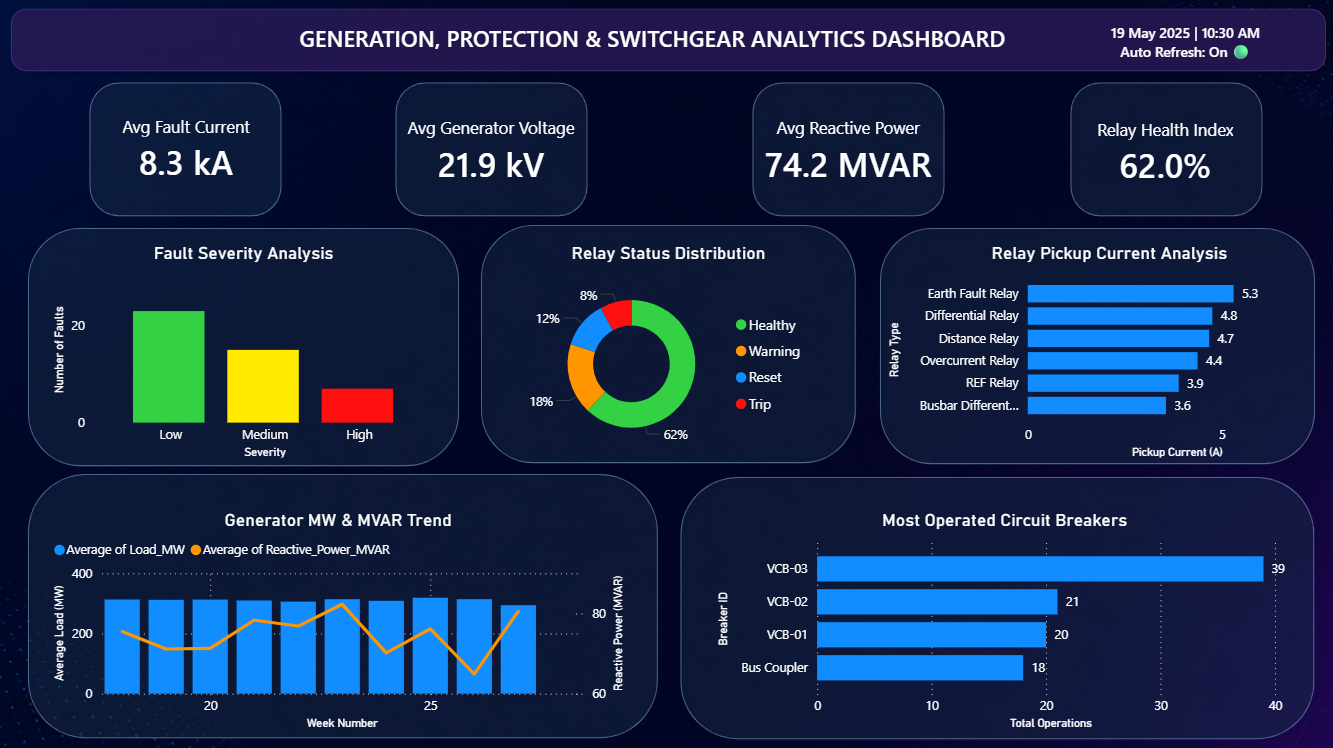

Layout of this report page (visuals, bound fields, positions):
{"tool":"powerbi","page":{"name":"Switchgear & Protection Analytics","canvas":[1280,720],"ordinal":1},"visuals":[{"type":"shape","box":[75.1,69.3,206.1,150.2],"z":0},{"type":"shape","box":[367.8,69.3,206.1,150.2],"z":1000},{"type":"shape","box":[710.6,69.3,206.1,150.2],"z":2000},{"type":"shape","box":[1.8,0,1278.8,78.2],"z":3000},{"type":"textbox","box":[104,17.3,1043.8,38.5],"z":4000},{"type":"textbox","box":[1030.3,17.3,213.8,52],"z":5000},{"type":"shape","box":[1014.9,69.3,206.1,150.2],"z":6000},{"type":"cardVisual","fields":{"Data":["Equipment_Master.Avg Fault Current"]},"box":[82.8,82.8,190.7,121.3],"z":7000},{"type":"cardVisual","fields":{"Data":["Equipment_Master.Relay Health Index"]},"box":[1003.3,86.7,227.2,121.3],"z":8000},{"type":"cardVisual","fields":{"Data":["Equipment_Master.Avg Generator Voltage"]},"box":[354.3,84.7,234.9,121.3],"z":9000},{"type":"cardVisual","fields":{"Data":["Equipment_Master.Avg Reactive Power"]},"box":[693.3,84.7,240.7,121.3],"z":10000},{"type":"shape","box":[450.6,206.1,381.3,250.4],"z":11000},{"type":"shape","box":[831.9,208,439.1,248.4],"z":12000},{"type":"shape","box":[15.4,208,435.2,250.4],"z":13000},{"type":"shape","box":[15.4,444.9,625.9,275.4],"z":14000},{"type":"shape","box":[641.3,446.8,629.7,273.5],"z":14500},{"type":"donutChart","title":"Relay Status Distribution","fields":{"Category":["Relay_Protection_Log.Operation_Status"],"Y":["CountNonNull(Relay_Protection_Log.Relay_Type)"]},"box":[500.7,233,281.2,213.8],"z":15000},{"type":"clusteredColumnChart","title":"Fault Severity Analysis","fields":{"Category":["Trip_Fault_Log.Severity"],"Y":["CountNonNull(Trip_Fault_Log.Equipment_ID)"]},"box":[46.2,233,375.5,211.8],"z":16000},{"type":"lineClusteredColumnComboChart","title":"Generator MW & MVAR Trend","fields":{"Category":["Generation_Load_Log.Week_Number"],"Y":["Avg(Generation_Load_Log.Load_MW)"],"Y2":["Avg(Generation_Load_Log.Reactive_Power_MVAR)"]},"box":[46.2,489.2,556.6,215.7],"z":17000},{"type":"clusteredBarChart","title":"Relay Pickup Current Analysis","fields":{"Category":["Relay_Protection_Log.Relay_Type"],"Y":["Avg(Relay_Protection_Log.Pickup_Current_A)"]},"box":[847.4,233,433.3,211.8],"z":18000},{"type":"clusteredBarChart","title":"Most Operated Circuit Breakers","fields":{"Category":["Breaker_Operation_Log.Breaker_ID"],"Y":["Sum(Breaker_Operation_Log.Operation_Count)"]},"box":[683.7,489.2,560.4,215.7],"z":19000}]}

Visuals, with their boxes in screenshot pixels (x1, y1, x2, y2), scaled from the page's 1280x720 canvas onto the 1333x748 screenshot:
shape: Rect(78, 72, 293, 228)
shape: Rect(383, 72, 598, 228)
shape: Rect(740, 72, 955, 228)
shape: Rect(2, 0, 1332, 81)
textbox: Rect(108, 18, 1195, 58)
textbox: Rect(1073, 18, 1296, 72)
shape: Rect(1057, 72, 1272, 228)
cardVisual - Equipment_Master.Avg Fault Current: Rect(86, 86, 285, 212)
cardVisual - Equipment_Master.Relay Health Index: Rect(1045, 90, 1281, 216)
cardVisual - Equipment_Master.Avg Generator Voltage: Rect(369, 88, 614, 214)
cardVisual - Equipment_Master.Avg Reactive Power: Rect(722, 88, 973, 214)
shape: Rect(469, 214, 866, 474)
shape: Rect(866, 216, 1324, 474)
shape: Rect(16, 216, 469, 476)
shape: Rect(16, 462, 668, 747)
shape: Rect(668, 464, 1324, 747)
"Relay Status Distribution" donutChart: Rect(521, 242, 814, 464)
"Fault Severity Analysis" clusteredColumnChart: Rect(48, 242, 439, 462)
"Generator MW & MVAR Trend" lineClusteredColumnComboChart: Rect(48, 508, 628, 732)
"Relay Pickup Current Analysis" clusteredBarChart: Rect(882, 242, 1332, 462)
"Most Operated Circuit Breakers" clusteredBarChart: Rect(712, 508, 1296, 732)
